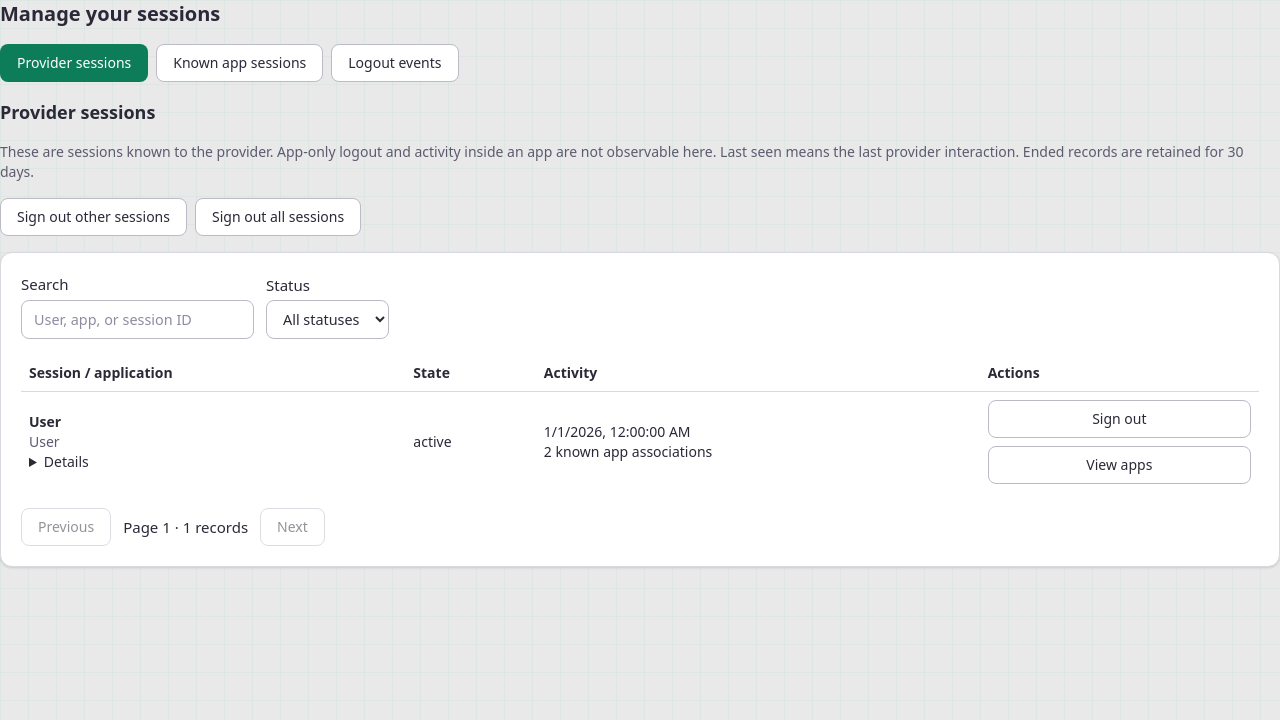
Test: keeps failures visible and does not report success
Click the button "Sign out". click: (1119, 419)
box: [988,400,1251,438]
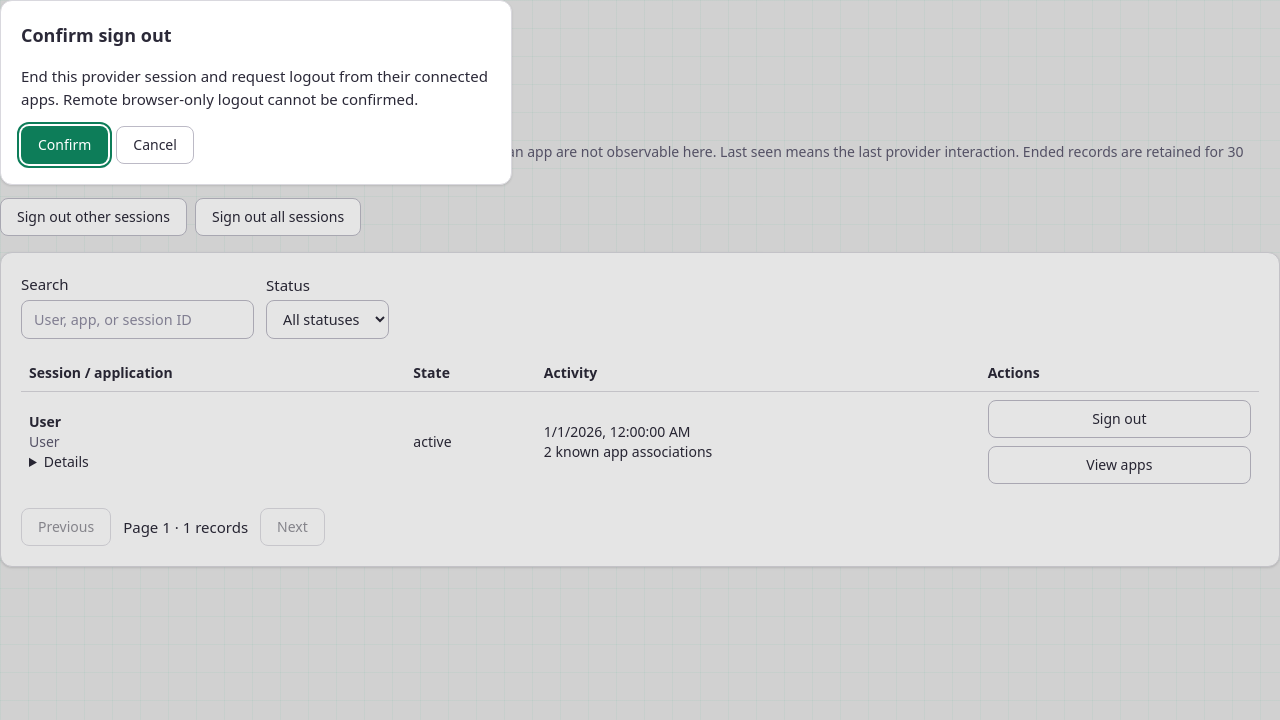
Click the button "Confirm". click: (65, 145)
box: [21,126,108,164]
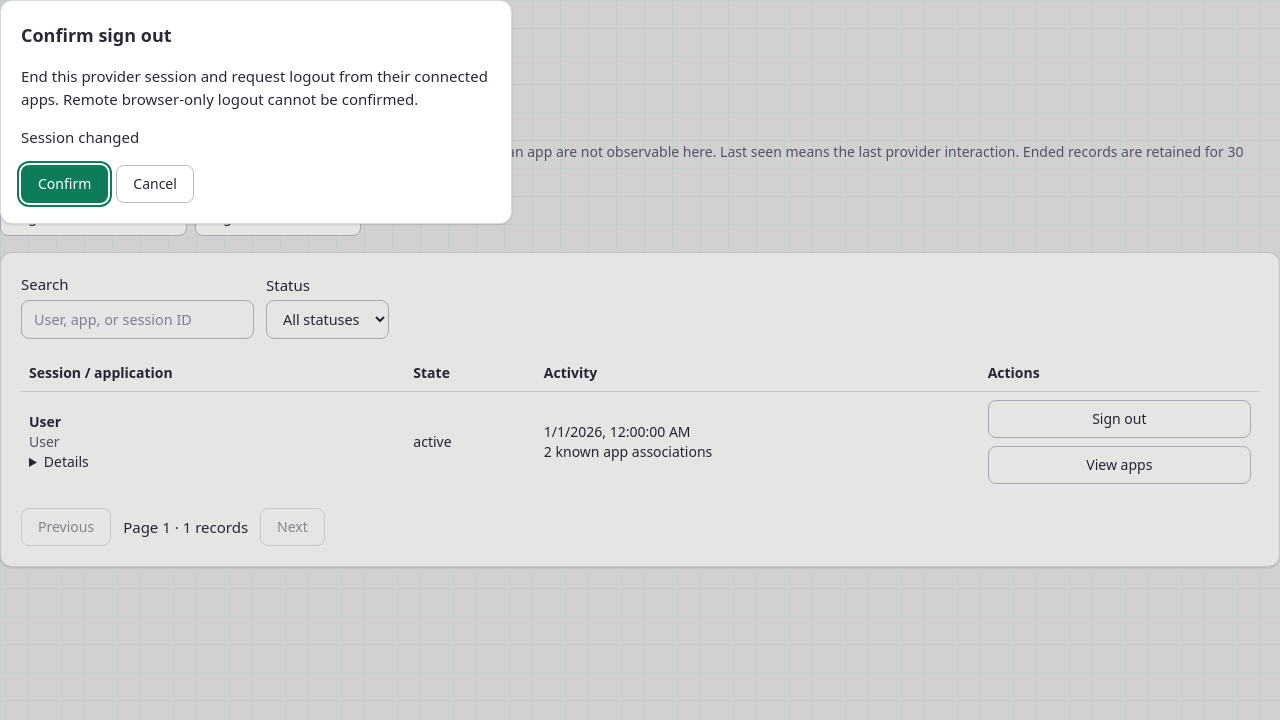
Now the message reads "Session changed", box [21,127,139,147]
